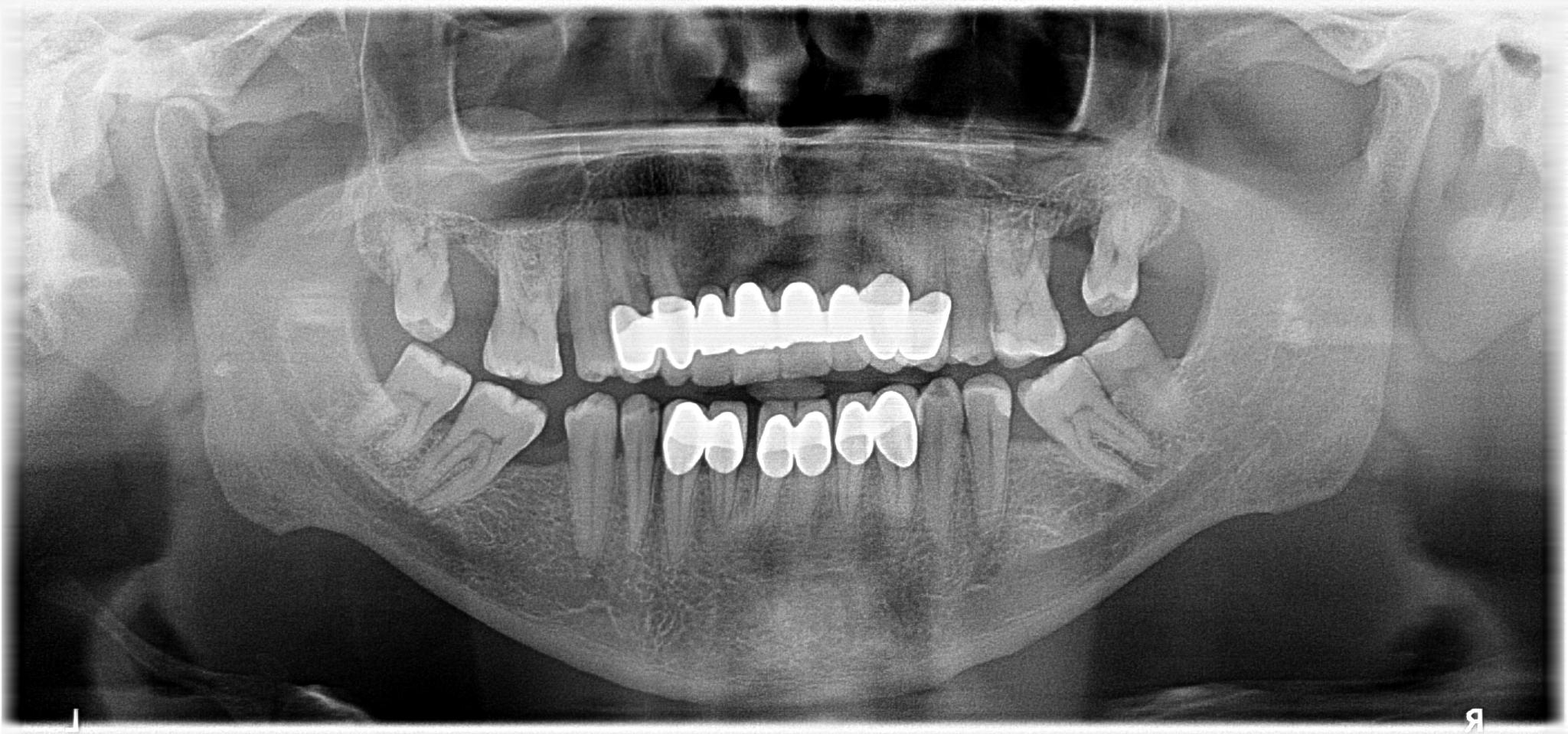Premolars: (339, 201, 980, 589)
